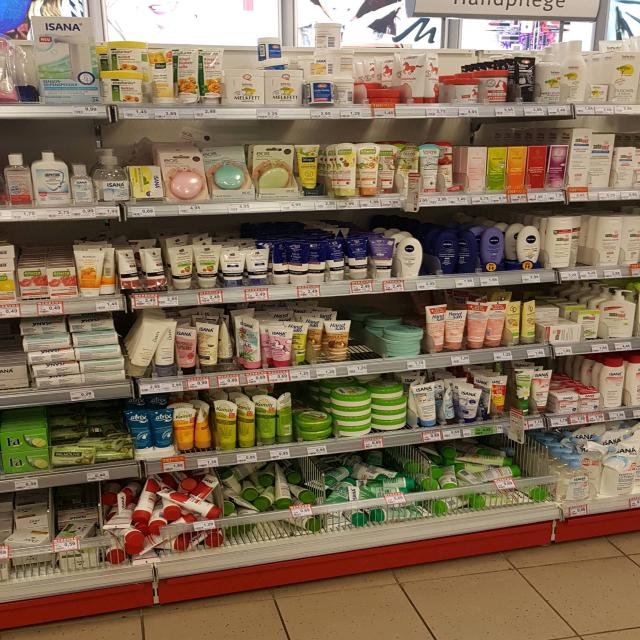unorganised: (49, 430, 132, 466), (266, 318, 324, 364), (128, 322, 176, 376), (216, 318, 260, 370), (403, 50, 442, 101), (318, 21, 352, 73), (273, 394, 298, 443), (17, 269, 51, 299), (378, 145, 398, 193), (438, 145, 459, 189), (100, 247, 118, 297), (262, 39, 293, 67), (572, 218, 590, 266), (438, 385, 459, 426), (398, 149, 420, 187), (195, 408, 214, 450), (478, 378, 493, 423)
